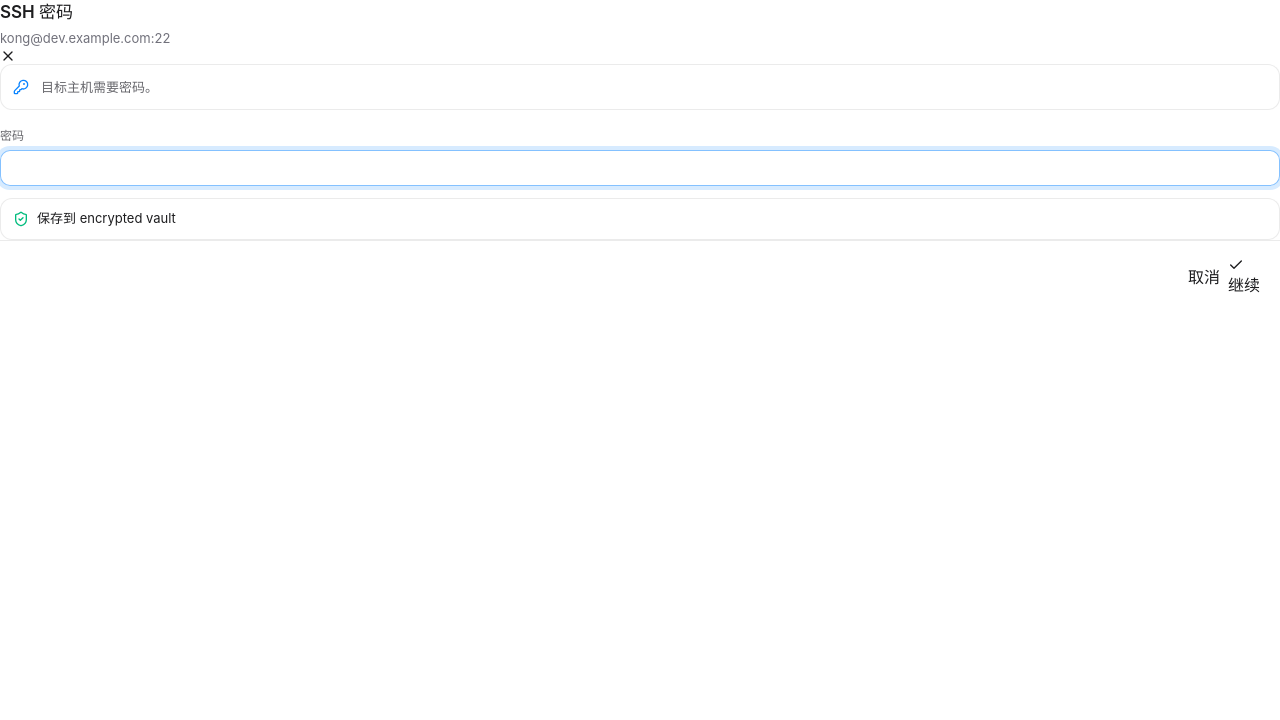
SshAuthPromptHost › keeps the prompt open when submission fails
Type "secret-password" into the password field labelled "密码". click: (640, 168)
box: [0,150,1279,186]
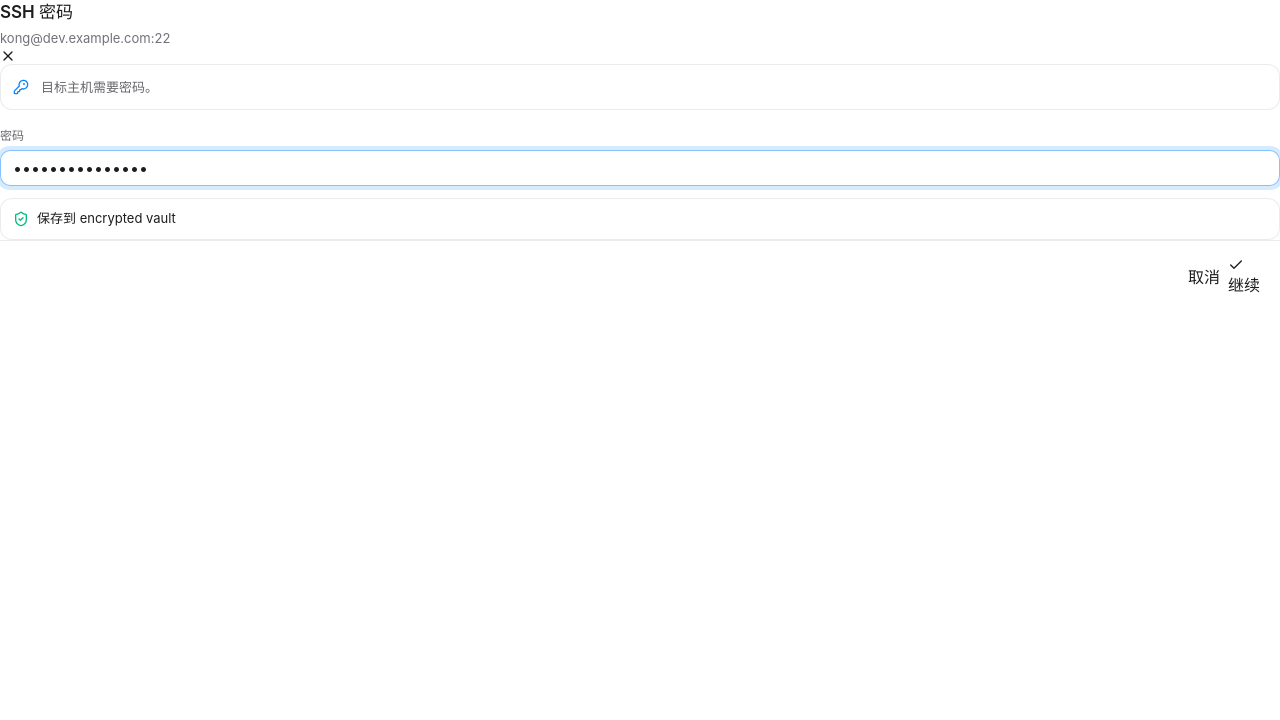
Click the button "继续". click: (1244, 276)
box: [1228,256,1260,296]
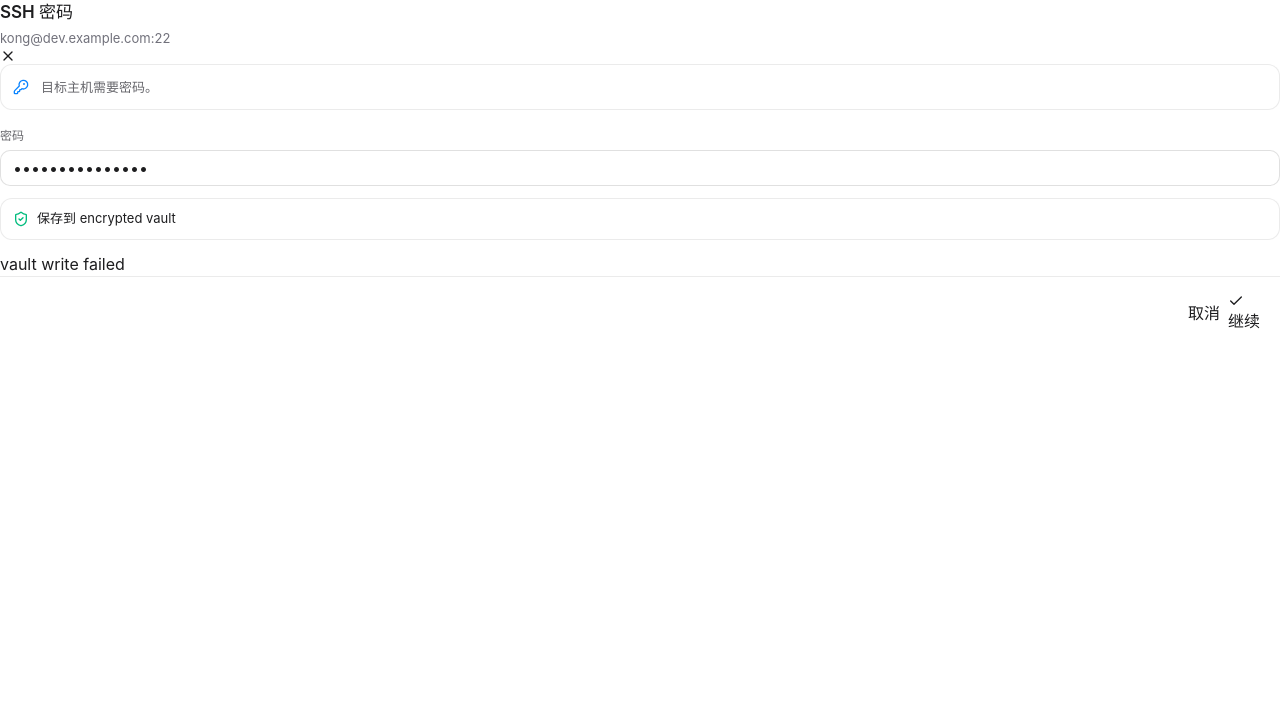
Expected: the dialog "SSH 密码" is shown, [0,0,1279,348]
Expected: the message reads "vault write failed", [0,254,125,274]
